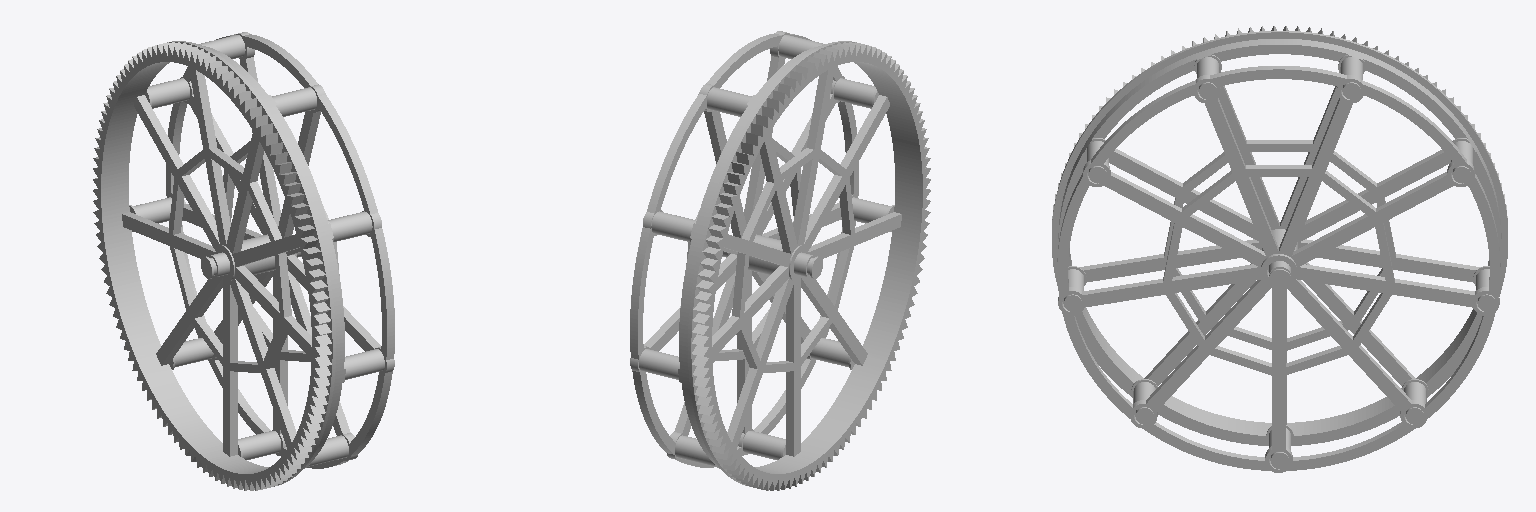
The model's file is aro_roda_gigante.obj.
3 renders of one model, left to right at view 1: azimuth 30°, elevation 25°; view 2: azimuth 150°, elevation 25°; view 3: azimuth 270°, elevation 25°, orthographic.
Visible parts, largest first — view 1: Wheel, WheelCover; view 2: Wheel, WheelCover; view 3: Wheel, WheelCover.
Boxes of the visible parts, <box> form: Wheel: <box>93,35,384,490</box>; WheelCover: <box>166,32,394,468</box>; Wheel: <box>630,35,930,490</box>; WheelCover: <box>630,31,858,467</box>; Wheel: <box>1052,26,1507,468</box>; WheelCover: <box>1057,66,1500,472</box>.
Bounding box in the file's own units: 50 × 200 × 200.